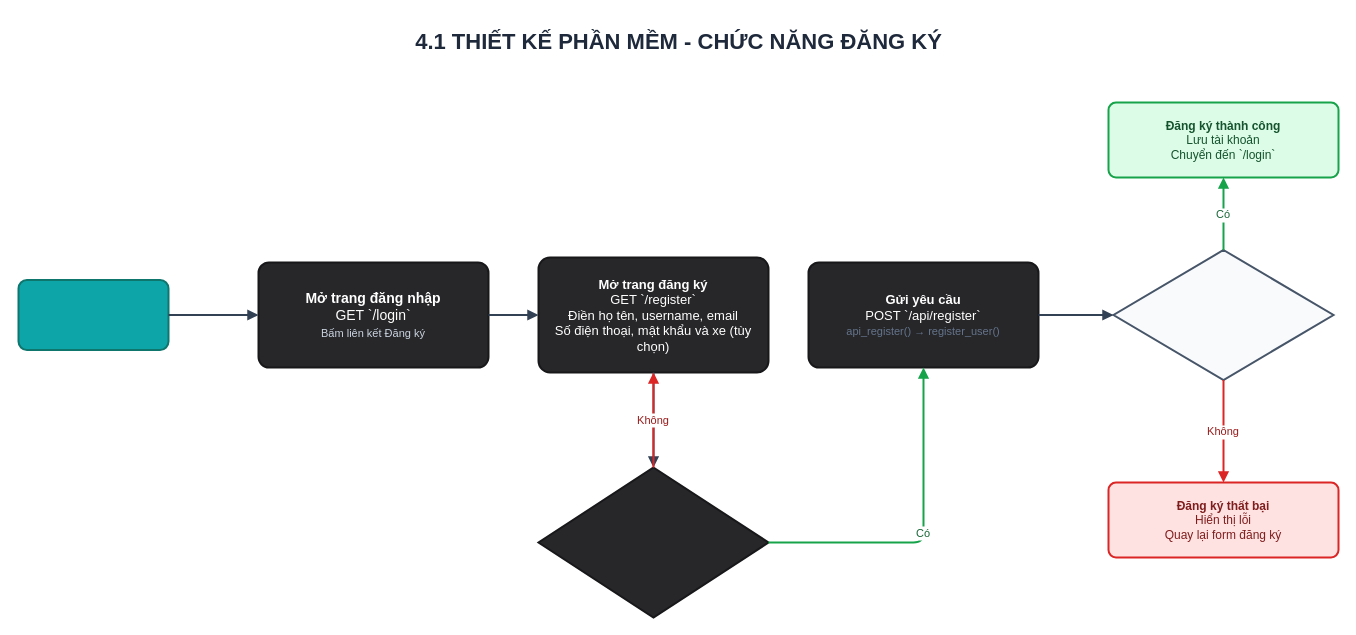
The diagram is 1356 pixels wide and 635 high, and some of its shapes have lost their labels. Each missing label, with the centre of its shape:
"Dữ liệu hợp lệ? Đủ trường, phone đúng định dạng, mật khẩu xác nhận trùng nhau" goes at pixel 653 542.
"START" goes at pixel 93 314.
"Tạo tài khoản được? Kiểm tra trùng username, email, phone" goes at pixel 1223 314.
